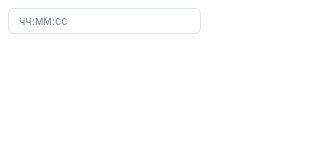
Scenario: TimeField › заменяет черновик при внешней смене значения и не возвращает его при смене формата
The width and height of the screenshot is (320, 160).
Later steps or results of the test are not shown.
Step 1. Type "123" into the field named "Время" → (104, 21), box x1=17 y1=8 x2=192 y2=34
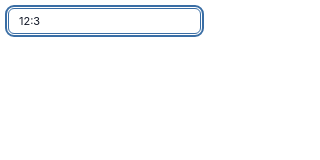
Now the field named "Время" holds "12:3", box x1=17 y1=8 x2=192 y2=34
